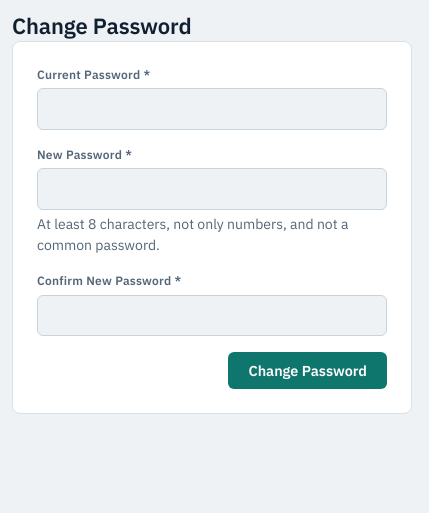
it: normal password change stays on the page with a confirmation
Check: the heading reads "Change Password", box [12, 11, 192, 40]
Type "Old-pass-2026" into the password field below "Current Password *" at (212, 109), box [37, 88, 387, 130]
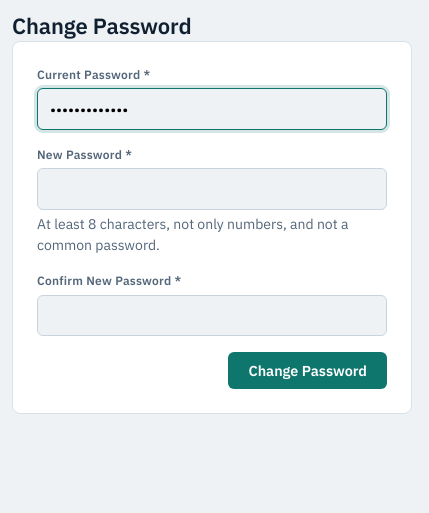
Type "New-pass-2026" into the 2nd password field at (212, 189), box [37, 168, 387, 210]
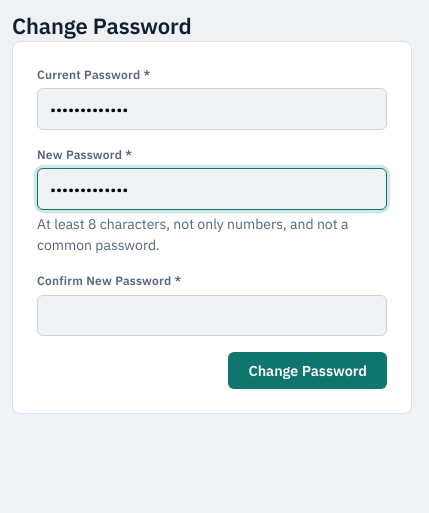
Type "New-pass-2026" into the password field below "Confirm New Password *" at (212, 316), box [37, 295, 387, 336]
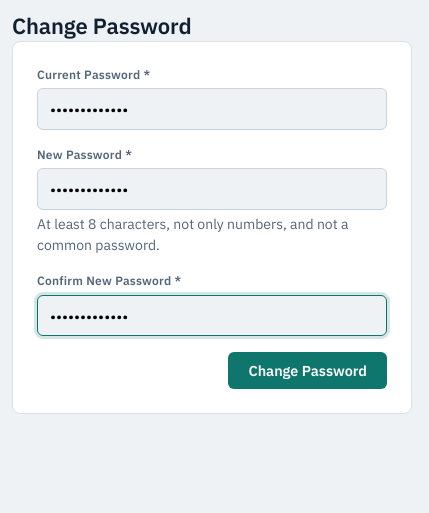
Click the button "Change Password" at (308, 371), box [228, 352, 387, 389]
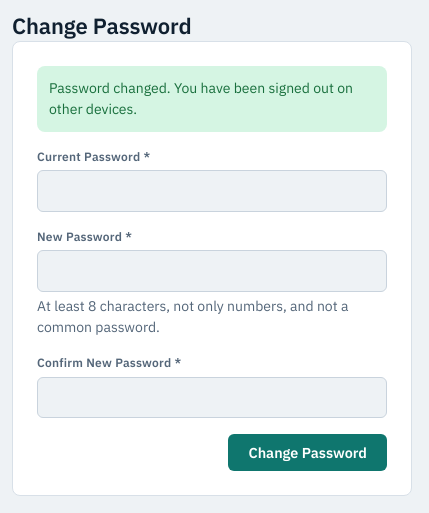
Check: the text "Password changed. You have been signed out on other devices." is shown, box [37, 66, 387, 132]
